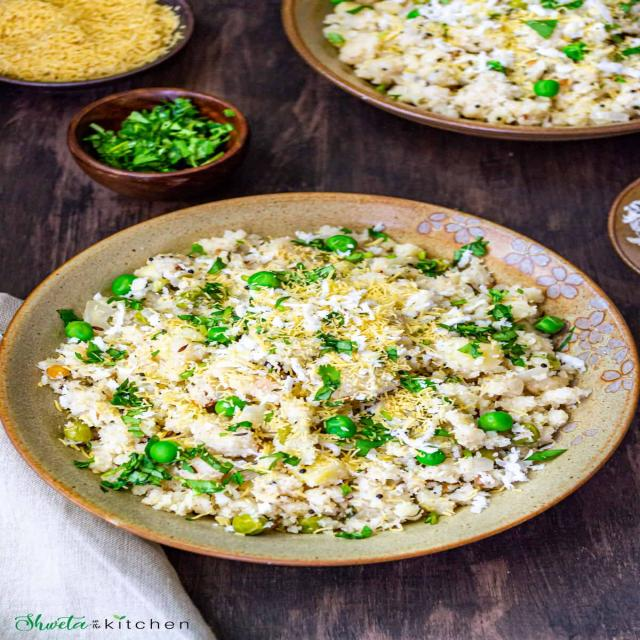POHA: (40, 224, 582, 534)
